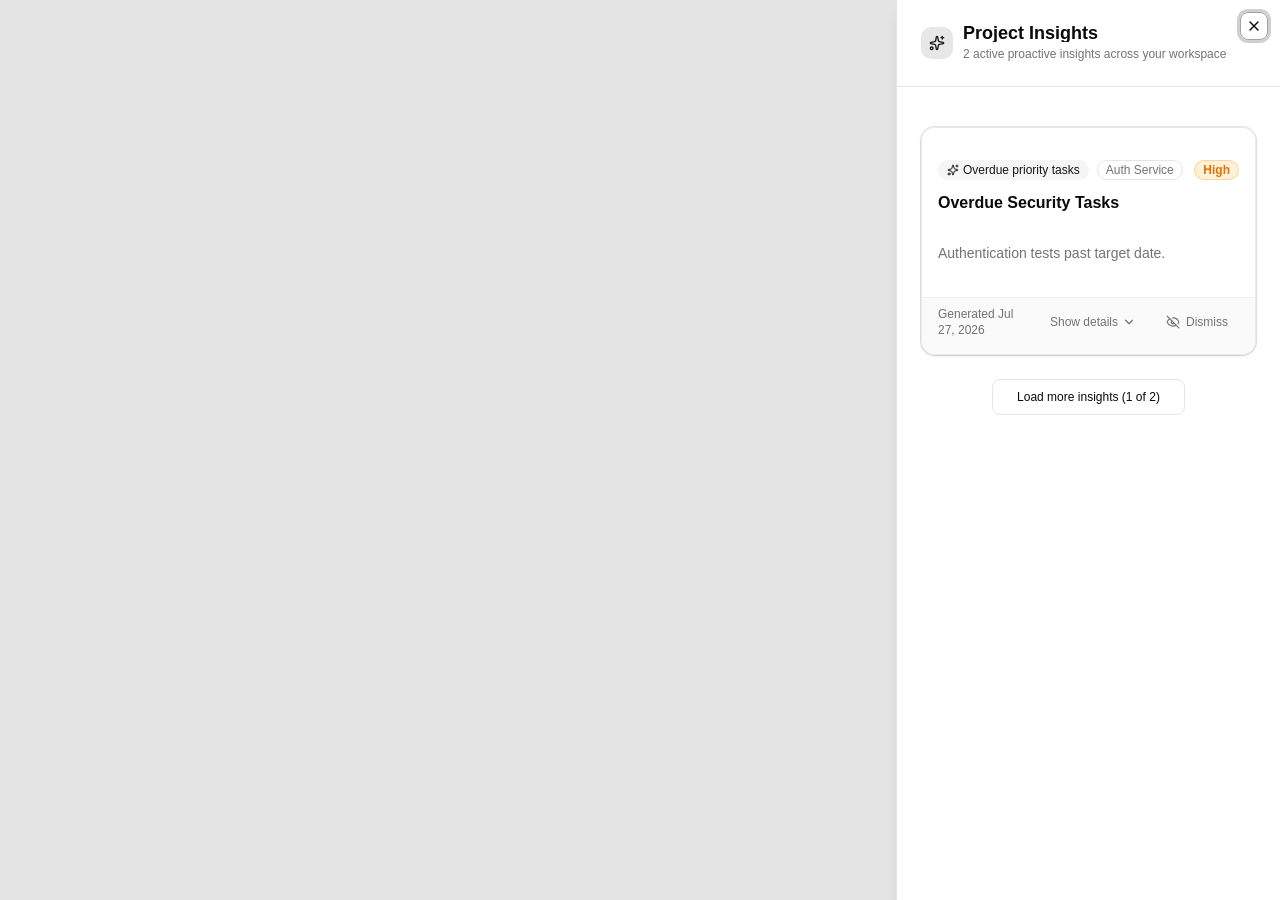
Test: WorkspaceRecommendationsSheet Component › 3. PROGRESSIVE PAGINATION: clicking Load More fetches next page and appends items without duplicates
Expected: the heading "Overdue Security Tasks" is shown, [938, 194, 1119, 211]
Click the button "Load more insights (1 of 2)". click: (1088,397)
box: [992, 379, 1185, 415]
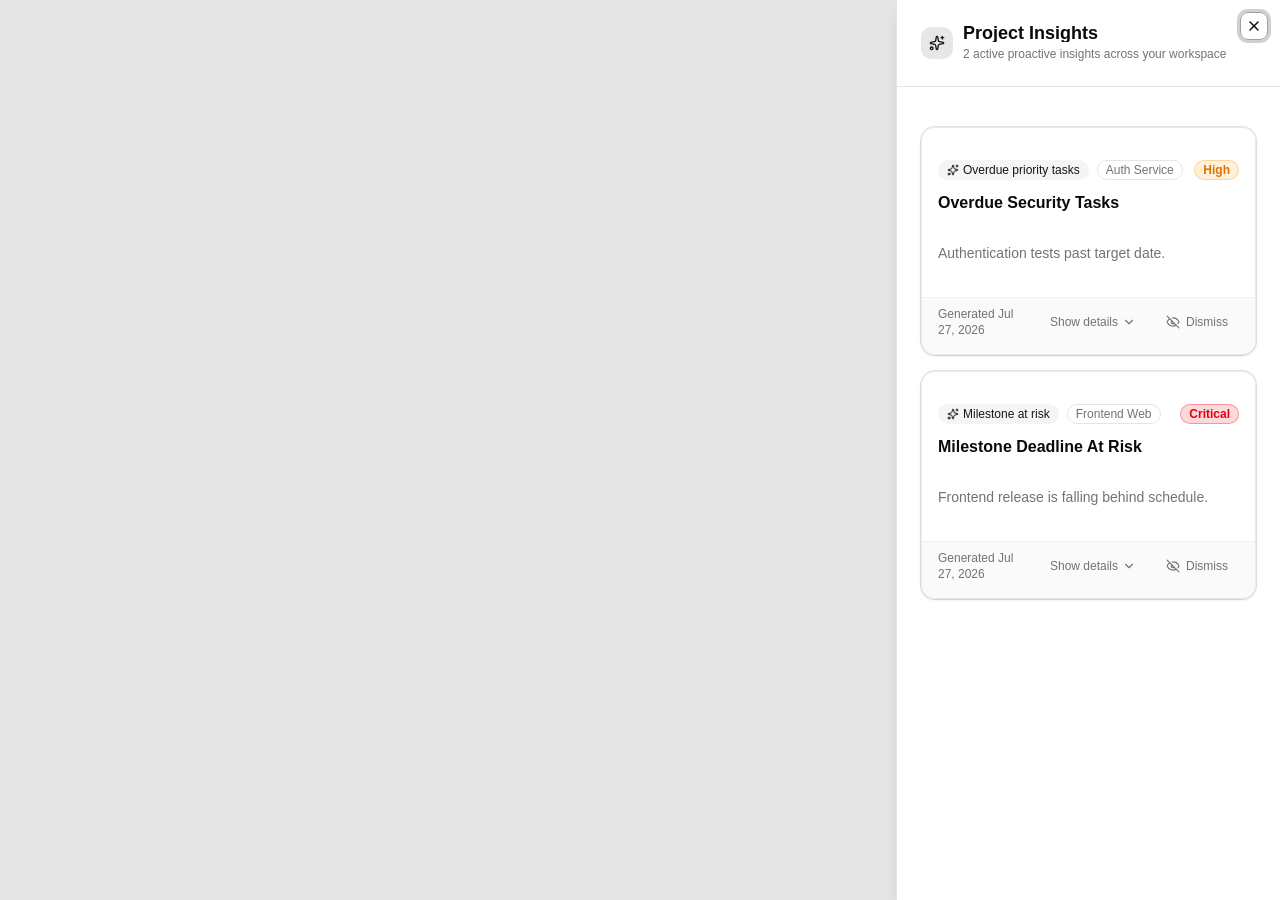
Expected: the heading "Overdue Security Tasks" is shown, [938, 194, 1119, 211]
Now the heading "Milestone Deadline At Risk" is shown, box [938, 438, 1142, 455]
Now the button "Load more insights" is gone
